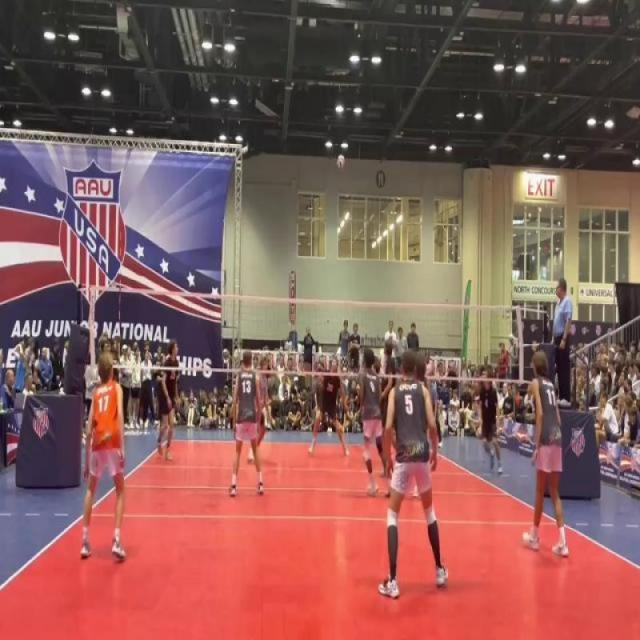volleyball: (336, 152, 346, 170)
